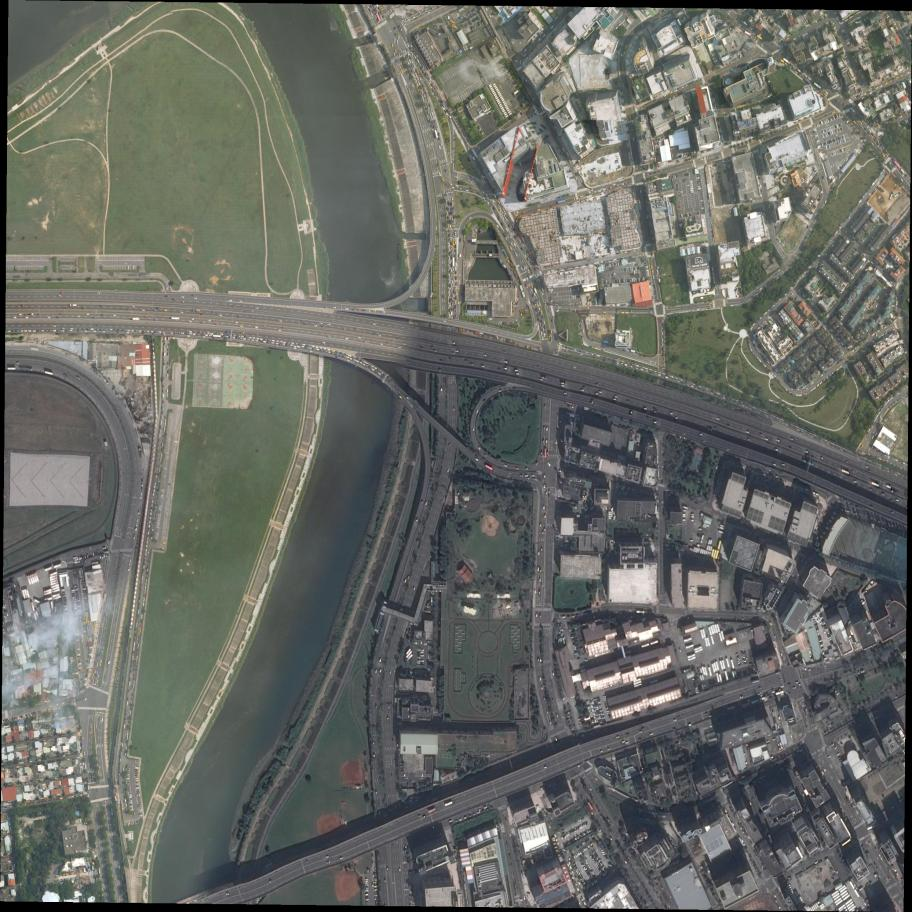large-vehicle: (407, 654, 414, 662), (34, 573, 40, 582), (34, 599, 43, 605), (841, 469, 850, 475), (29, 575, 34, 585), (31, 574, 36, 584), (713, 662, 718, 672), (406, 651, 413, 658), (814, 82, 821, 89), (428, 808, 436, 814), (53, 595, 61, 601), (783, 58, 791, 64), (485, 465, 493, 471), (52, 593, 61, 598), (51, 586, 60, 591), (27, 576, 32, 585), (33, 574, 38, 583), (35, 611, 40, 620), (708, 627, 713, 636), (720, 631, 725, 640), (710, 636, 715, 645), (706, 637, 711, 646), (687, 654, 696, 659), (701, 667, 706, 676), (711, 664, 716, 673), (719, 661, 724, 670), (725, 659, 730, 668), (730, 660, 735, 669), (805, 79, 812, 85), (51, 584, 59, 589), (51, 581, 59, 586), (50, 579, 58, 584), (49, 577, 57, 582), (49, 574, 57, 579), (50, 572, 58, 577), (44, 567, 52, 572), (445, 802, 453, 807), (376, 13, 381, 21), (44, 591, 52, 596), (871, 482, 879, 487), (716, 624, 721, 632), (694, 646, 702, 651), (695, 649, 703, 654), (688, 657, 696, 662), (708, 667, 712, 677), (715, 662, 720, 670), (722, 660, 726, 670), (19, 368, 32, 371), (406, 649, 412, 655), (30, 347, 39, 351), (22, 590, 26, 599), (24, 589, 28, 598), (26, 589, 30, 598), (43, 589, 52, 593), (31, 603, 35, 612), (33, 612, 37, 621), (138, 448, 142, 457), (700, 630, 704, 639), (702, 629, 706, 638), (710, 626, 714, 635), (712, 625, 716, 634), (714, 625, 718, 634), (719, 633, 723, 642), (775, 691, 784, 695), (704, 638, 708, 647), (704, 667, 708, 676), (716, 673, 720, 682), (719, 674, 723, 683), (725, 671, 729, 680), (77, 690, 84, 695), (54, 564, 61, 569), (756, 35, 763, 40), (744, 31, 751, 36), (434, 130, 438, 138), (52, 589, 60, 593), (45, 371, 53, 375), (684, 638, 692, 642), (686, 645, 694, 649), (171, 317, 180, 320), (51, 602, 54, 611), (44, 598, 52, 601), (193, 309, 200, 312), (8, 367, 15, 370), (886, 485, 891, 489), (77, 699, 86, 701), (544, 449, 546, 458), (453, 258, 455, 266), (25, 313, 33, 315), (213, 335, 221, 337), (70, 305, 77, 307), (132, 318, 139, 320)
small-vehicle: (474, 457, 479, 462), (404, 578, 408, 583), (625, 741, 630, 745), (561, 382, 566, 386), (547, 462, 551, 467), (475, 409, 479, 414), (503, 233, 507, 237), (784, 62, 788, 66), (398, 395, 402, 399), (513, 242, 516, 247), (509, 246, 512, 251), (674, 417, 679, 420), (716, 417, 721, 420), (825, 145, 828, 150), (407, 575, 410, 580), (861, 444, 864, 449), (446, 468, 449, 473), (606, 748, 611, 751), (539, 676, 542, 681), (379, 658, 382, 663), (482, 354, 487, 357), (401, 70, 404, 74), (414, 55, 417, 59), (407, 52, 410, 56), (393, 52, 396, 56), (421, 95, 424, 99), (416, 82, 419, 86), (418, 81, 421, 85), (121, 807, 124, 811), (35, 693, 38, 697), (436, 96, 439, 100), (468, 217, 472, 220), (505, 228, 508, 232), (515, 214, 519, 217), (537, 208, 541, 211), (497, 200, 500, 204), (438, 172, 441, 176), (472, 157, 476, 160), (440, 142, 443, 146), (515, 252, 518, 256), (482, 197, 486, 200), (486, 201, 490, 204), (500, 222, 503, 226), (507, 260, 510, 264), (215, 322, 219, 325), (93, 623, 97, 626), (93, 621, 97, 624), (76, 648, 80, 651), (556, 310, 560, 313), (816, 384, 820, 387), (819, 382, 823, 385), (820, 374, 823, 378), (831, 372, 835, 375), (773, 463, 777, 466), (782, 463, 786, 466), (790, 438, 794, 441), (765, 438, 769, 441), (746, 431, 750, 434), (884, 411, 887, 415), (886, 408, 889, 412), (844, 56, 848, 59), (893, 184, 897, 187), (794, 71, 798, 74), (890, 47, 893, 51), (845, 39, 849, 42), (795, 394, 799, 397), (871, 436, 874, 440), (535, 462, 539, 465), (413, 586, 416, 590), (515, 467, 519, 470), (504, 464, 508, 467), (670, 412, 674, 415), (643, 407, 647, 410), (616, 736, 620, 739), (639, 730, 643, 733), (673, 719, 677, 722), (649, 733, 653, 736), (688, 724, 692, 727), (541, 686, 544, 690), (76, 377, 80, 380), (599, 391, 603, 394), (452, 342, 456, 345), (478, 446, 481, 450), (580, 389, 584, 392), (372, 323, 376, 326), (225, 893, 229, 896), (344, 337, 348, 340), (309, 350, 313, 353), (536, 272, 539, 276), (442, 320, 446, 323), (550, 329, 553, 333), (504, 367, 508, 370), (539, 378, 543, 381), (514, 319, 518, 322), (535, 308, 538, 312), (895, 76, 899, 79), (884, 82, 888, 85), (875, 87, 879, 90), (823, 93, 827, 96), (832, 116, 835, 120), (826, 118, 829, 122), (825, 119, 828, 123), (831, 112, 835, 115), (871, 142, 874, 146), (880, 147, 883, 151), (882, 154, 885, 158), (807, 77, 811, 80), (877, 123, 880, 127), (859, 122, 863, 125), (326, 856, 330, 859), (326, 861, 330, 864), (406, 396, 409, 400), (374, 367, 378, 370), (378, 372, 382, 375), (371, 368, 375, 371), (439, 145, 441, 150), (612, 262, 614, 267), (543, 505, 545, 510), (555, 440, 557, 445), (544, 514, 546, 519), (541, 547, 543, 552), (540, 657, 542, 662), (538, 567, 540, 572), (544, 405, 546, 410), (440, 387, 442, 392), (541, 377, 546, 379), (829, 100, 831, 105), (411, 61, 414, 64), (411, 52, 414, 55), (404, 51, 407, 54), (407, 44, 410, 47), (403, 23, 406, 26), (407, 18, 410, 21), (417, 73, 420, 76), (22, 715, 25, 718), (47, 709, 50, 712), (136, 787, 139, 790), (530, 284, 533, 287), (510, 242, 513, 245), (496, 225, 499, 228), (492, 199, 495, 202), (442, 179, 445, 182), (426, 111, 429, 114), (498, 215, 501, 218), (509, 235, 512, 238), (527, 270, 530, 273), (93, 630, 96, 633), (93, 628, 96, 631), (94, 625, 97, 628), (84, 678, 87, 681), (613, 183, 616, 186), (811, 382, 814, 385), (813, 387, 816, 390), (547, 198, 550, 201), (839, 366, 842, 369), (845, 159, 848, 162), (825, 129, 828, 132), (709, 302, 712, 305), (781, 60, 784, 63), (760, 44, 763, 47), (731, 42, 734, 45), (714, 60, 717, 63), (846, 40, 849, 43), (847, 42, 850, 45), (17, 362, 20, 365), (805, 450, 808, 453), (564, 392, 567, 395), (828, 128, 831, 131), (320, 322, 323, 325), (552, 329, 555, 332), (526, 278, 529, 281), (498, 321, 501, 324), (500, 321, 503, 324), (537, 318, 540, 321), (594, 347, 597, 350), (836, 125, 839, 128), (853, 121, 856, 124), (860, 139, 863, 142), (886, 154, 889, 157), (870, 135, 873, 138), (804, 74, 807, 77), (866, 126, 869, 129), (340, 857, 343, 860), (356, 360, 359, 363), (653, 421, 657, 423), (407, 61, 409, 65), (398, 35, 400, 39), (413, 68, 415, 72), (431, 116, 433, 120), (430, 112, 432, 116), (424, 94, 426, 98), (415, 73, 417, 77), (426, 12, 430, 14), (17, 716, 19, 720), (27, 713, 29, 717), (44, 709, 46, 713), (49, 708, 51, 712), (125, 803, 127, 807), (127, 822, 129, 826), (130, 821, 132, 825), (130, 809, 134, 811), (136, 794, 140, 796), (443, 107, 445, 111), (450, 232, 452, 236), (429, 103, 431, 107), (528, 276, 530, 280), (523, 266, 525, 270), (455, 263, 457, 267), (455, 286, 457, 290), (453, 283, 455, 287), (453, 278, 455, 282), (453, 272, 455, 276), (437, 128, 439, 132), (434, 120, 436, 124), (445, 198, 447, 202), (522, 243, 524, 247), (129, 682, 131, 686), (192, 333, 196, 335), (207, 320, 211, 322), (201, 322, 205, 324), (180, 332, 184, 334), (162, 332, 166, 334), (109, 329, 113, 331), (92, 317, 96, 319), (60, 292, 64, 294), (97, 292, 101, 294), (132, 266, 134, 270), (163, 310, 167, 312), (101, 331, 105, 333), (83, 330, 87, 332), (52, 325, 56, 327), (139, 629, 141, 633), (82, 622, 86, 624), (133, 647, 135, 651), (136, 656, 138, 660), (85, 612, 87, 616), (182, 301, 186, 303), (162, 542, 166, 544), (160, 458, 162, 462), (160, 421, 162, 425), (162, 394, 164, 398), (167, 374, 169, 378), (167, 352, 169, 356), (690, 385, 694, 387), (615, 262, 617, 266), (614, 272, 616, 276), (632, 267, 634, 271), (776, 440, 780, 442), (673, 175, 675, 179), (690, 188, 694, 190), (827, 132, 829, 136), (825, 133, 827, 137), (838, 141, 840, 145), (843, 135, 845, 139), (827, 128, 829, 132), (635, 278, 637, 282), (652, 275, 654, 279), (652, 270, 654, 274), (651, 265, 653, 269), (785, 38, 789, 40), (540, 452, 542, 456), (544, 527, 546, 531), (539, 523, 541, 527), (544, 484, 546, 488), (525, 475, 529, 477), (519, 475, 523, 477), (416, 518, 418, 522), (542, 531, 544, 535), (388, 705, 390, 709), (536, 613, 538, 617), (539, 578, 541, 582), (538, 551, 540, 555), (153, 489, 155, 493), (546, 440, 548, 444), (546, 427, 548, 431), (775, 449, 779, 451), (154, 485, 156, 489), (136, 623, 138, 627), (473, 427, 475, 431), (497, 390, 501, 392), (561, 385, 565, 387), (375, 704, 377, 708), (390, 670, 392, 674), (375, 669, 377, 673), (380, 668, 382, 672), (399, 868, 401, 872), (830, 127, 832, 131), (397, 347, 401, 349), (234, 322, 238, 324), (379, 344, 383, 346), (314, 325, 318, 327), (357, 337, 361, 339), (345, 308, 349, 310), (367, 310, 371, 312), (248, 337, 252, 339), (308, 347, 312, 349), (297, 346, 301, 348), (275, 340, 279, 342), (263, 341, 267, 343), (455, 350, 459, 352), (481, 365, 485, 367), (542, 288, 544, 292), (534, 292, 536, 296), (451, 303, 453, 307), (455, 276, 457, 280), (504, 361, 508, 363), (544, 333, 546, 337), (515, 373, 519, 375), (541, 323, 543, 327), (542, 315, 544, 319), (530, 287, 532, 291), (541, 310, 543, 314), (543, 320, 545, 324), (541, 331, 543, 335), (833, 126, 835, 130), (879, 85, 883, 87), (579, 354, 583, 356), (319, 347, 323, 349), (620, 360, 624, 362), (830, 117, 832, 121), (818, 122, 820, 126), (816, 123, 818, 127), (327, 351, 331, 353), (331, 350, 335, 352), (403, 52, 405, 55), (409, 60, 411, 63), (419, 63, 421, 66), (412, 16, 415, 18), (395, 50, 397, 53), (394, 39, 396, 42), (403, 21, 406, 23), (413, 65, 415, 68), (412, 84, 414, 87), (430, 85, 432, 88), (433, 116, 435, 119), (432, 112, 434, 115), (428, 107, 430, 110), (429, 77, 431, 80), (429, 80, 431, 83), (428, 82, 430, 85), (426, 78, 428, 81), (427, 98, 429, 101), (421, 90, 423, 93), (415, 79, 417, 82), (413, 74, 415, 77), (417, 77, 419, 80), (419, 77, 421, 80), (420, 25, 423, 27), (24, 715, 26, 718), (80, 729, 82, 732), (125, 746, 127, 749), (10, 718, 12, 721), (41, 710, 43, 713), (135, 767, 138, 769), (121, 804, 123, 807), (129, 822, 131, 825), (132, 821, 134, 824), (139, 809, 142, 811), (129, 800, 132, 802), (135, 780, 138, 782), (135, 778, 138, 780), (430, 108, 432, 111), (451, 220, 453, 223), (450, 237, 452, 240), (451, 247, 453, 250), (453, 252, 455, 255), (450, 208, 452, 211), (494, 195, 496, 198), (455, 185, 458, 187), (449, 183, 452, 185), (455, 176, 458, 178), (468, 147, 470, 150), (446, 203, 448, 206), (449, 197, 451, 200), (447, 197, 449, 200), (478, 193, 481, 195), (191, 318, 194, 320), (189, 320, 192, 322), (207, 332, 210, 334), (189, 331, 192, 333), (187, 335, 190, 337), (170, 332, 173, 334), (146, 330, 149, 332), (131, 330, 134, 332), (127, 330, 130, 332), (113, 315, 116, 317), (14, 317, 17, 319), (58, 295, 61, 297), (100, 305, 103, 307), (91, 328, 94, 330), (69, 330, 72, 332), (70, 328, 73, 330), (61, 330, 64, 332), (53, 330, 56, 332), (41, 330, 44, 332), (37, 330, 40, 332), (33, 330, 36, 332), (28, 330, 31, 332), (24, 330, 27, 332), (17, 330, 20, 332), (58, 317, 61, 319), (92, 675, 94, 678), (91, 626, 93, 629), (141, 615, 143, 618), (143, 599, 145, 602), (145, 583, 147, 586), (132, 656, 134, 659), (84, 683, 87, 685), (94, 670, 96, 673), (87, 667, 90, 669), (78, 667, 81, 669), (100, 660, 102, 663), (75, 673, 78, 675), (72, 592, 75, 594), (181, 296, 184, 298), (194, 297, 197, 299), (166, 345, 168, 348), (174, 441, 177, 443), (159, 434, 161, 437), (163, 366, 165, 369), (167, 366, 169, 369), (167, 362, 169, 365), (692, 383, 695, 385), (597, 355, 600, 357), (609, 274, 611, 277), (625, 312, 628, 314), (621, 312, 624, 314), (630, 268, 632, 271), (698, 188, 701, 190), (697, 186, 700, 188), (690, 182, 693, 184), (691, 191, 694, 193), (690, 186, 693, 188), (690, 184, 693, 186), (662, 343, 664, 346), (453, 295, 455, 298), (876, 415, 878, 418), (836, 369, 839, 371), (834, 152, 836, 155), (662, 339, 664, 342), (832, 152, 834, 155), (822, 135, 824, 138), (844, 139, 846, 142), (730, 43, 732, 46), (842, 30, 845, 32), (544, 475, 546, 478), (532, 475, 535, 477), (425, 502, 427, 505), (613, 398, 616, 400), (615, 396, 618, 398), (622, 741, 625, 743), (543, 427, 545, 430), (161, 416, 163, 419), (327, 336, 330, 338), (263, 325, 266, 327), (241, 332, 244, 334), (153, 493, 155, 496), (471, 364, 474, 366), (384, 879, 386, 882), (832, 127, 834, 130), (232, 337, 235, 339), (255, 327, 258, 329), (279, 320, 282, 322), (327, 324, 330, 326), (333, 307, 336, 309), (357, 309, 360, 311), (373, 310, 376, 312), (382, 311, 385, 313), (243, 338, 246, 340), (301, 346, 304, 348), (291, 343, 294, 345), (283, 342, 286, 344), (280, 341, 283, 343), (275, 343, 278, 345), (271, 342, 274, 344), (272, 340, 275, 342), (256, 338, 259, 340), (253, 337, 256, 339), (449, 314, 451, 317), (455, 282, 457, 285), (535, 275, 537, 278), (537, 314, 539, 317), (537, 304, 539, 307), (539, 303, 541, 306), (539, 323, 541, 326), (311, 346, 314, 348), (629, 366, 632, 368), (861, 91, 863, 94), (662, 373, 665, 375), (658, 374, 661, 376), (645, 368, 648, 370), (649, 369, 652, 371), (640, 369, 643, 371), (636, 365, 639, 367), (573, 349, 576, 351), (900, 75, 903, 77), (860, 95, 863, 97), (360, 362, 363, 364), (348, 355, 351, 357), (350, 358, 353, 360), (347, 357, 350, 359), (347, 360, 350, 362), (327, 349, 330, 351), (365, 890, 368, 892), (163, 377, 164, 382), (417, 60, 419, 62), (410, 45, 412, 47), (100, 718, 101, 722), (102, 718, 103, 722), (127, 733, 128, 737), (128, 795, 132, 796), (453, 242, 454, 246), (452, 234, 454, 236), (455, 240, 456, 244), (454, 220, 455, 224), (449, 216, 450, 220), (458, 301, 459, 305), (449, 266, 450, 270), (449, 252, 450, 256), (449, 243, 450, 247), (449, 207, 450, 211), (448, 202, 449, 206), (452, 202, 453, 206), (452, 197, 453, 201), (447, 193, 448, 197), (472, 191, 474, 193), (124, 725, 125, 729), (218, 315, 222, 316), (189, 333, 191, 335), (138, 331, 142, 332), (154, 320, 158, 321), (76, 316, 80, 317), (167, 287, 168, 291), (170, 287, 171, 291), (128, 266, 129, 270), (50, 330, 52, 332), (46, 330, 48, 332), (21, 330, 23, 332), (87, 616, 88, 620), (134, 643, 135, 647), (97, 663, 98, 667), (102, 651, 103, 655), (90, 647, 92, 649), (61, 590, 65, 591), (102, 623, 103, 627), (162, 548, 164, 550), (165, 419, 166, 423), (164, 347, 165, 351), (575, 295, 576, 299), (590, 302, 591, 306), (572, 295, 573, 299), (689, 181, 693, 182), (798, 395, 802, 396), (546, 491, 547, 495), (539, 590, 540, 594), (543, 439, 544, 443), (225, 336, 229, 337), (164, 352, 165, 356), (387, 866, 388, 870), (455, 305, 456, 309), (451, 298, 452, 302), (543, 328, 544, 332), (869, 130, 871, 132), (392, 44, 393, 47), (397, 40, 398, 43), (122, 744, 123, 747), (125, 753, 126, 756), (43, 710, 44, 713), (127, 737, 128, 740), (128, 728, 129, 731), (84, 752, 85, 755), (135, 771, 138, 772), (135, 775, 138, 776), (121, 800, 122, 803), (125, 799, 126, 802), (129, 806, 132, 807), (129, 802, 132, 803), (129, 797, 132, 798), (135, 784, 138, 785), (448, 224, 449, 227), (453, 238, 454, 241), (455, 237, 456, 240), (455, 232, 456, 235), (448, 220, 449, 223), (449, 220, 450, 223), (452, 224, 453, 227), (452, 217, 453, 220), (447, 212, 448, 215), (453, 248, 454, 251), (451, 274, 452, 277), (449, 276, 450, 279), (449, 270, 450, 273), (455, 301, 456, 304), (456, 292, 457, 295), (453, 268, 454, 271), (455, 267, 456, 270), (451, 269, 452, 272), (449, 261, 450, 264), (449, 257, 450, 260), (449, 248, 450, 251), (453, 207, 454, 210), (465, 190, 468, 191), (451, 193, 452, 196), (449, 193, 450, 196), (450, 203, 451, 206), (127, 702, 128, 705), (209, 335, 212, 336), (205, 335, 208, 336), (197, 334, 200, 335), (150, 331, 153, 332), (180, 312, 183, 313), (144, 316, 147, 317), (132, 306, 135, 307), (82, 308, 85, 309), (86, 314, 89, 315), (47, 317, 50, 318), (25, 317, 28, 318), (142, 310, 145, 311), (125, 332, 128, 333), (92, 331, 95, 332), (7, 331, 10, 332), (143, 603, 144, 606), (145, 590, 146, 593), (145, 587, 146, 590), (87, 612, 88, 615), (88, 620, 89, 623), (86, 620, 87, 623), (93, 679, 94, 682), (97, 680, 98, 683), (87, 665, 90, 666), (78, 664, 81, 665), (77, 655, 80, 656), (82, 639, 83, 642), (74, 609, 77, 610), (210, 299, 213, 300), (160, 465, 161, 468), (161, 454, 162, 457), (164, 428, 165, 431), (165, 424, 166, 427), (163, 370, 164, 373), (168, 348, 169, 351), (168, 344, 169, 347), (452, 280, 453, 283), (583, 330, 584, 333), (573, 295, 574, 298), (624, 252, 627, 253), (570, 288, 571, 291), (602, 312, 605, 313), (632, 279, 633, 282), (635, 267, 636, 270), (675, 175, 676, 178), (691, 190, 694, 191), (634, 271, 635, 274), (662, 332, 663, 335), (639, 278, 640, 281), (422, 501, 423, 504), (155, 482, 156, 485), (159, 469, 160, 472), (123, 768, 124, 771), (130, 674, 131, 677), (278, 330, 281, 331), (229, 300, 232, 301), (239, 301, 242, 302), (255, 308, 258, 309), (315, 347, 318, 348), (251, 340, 254, 341), (302, 345, 305, 346), (293, 346, 296, 347), (290, 345, 293, 346), (282, 344, 285, 345), (255, 340, 258, 341), (260, 339, 263, 340), (449, 309, 450, 312), (449, 304, 450, 307), (451, 312, 452, 315), (456, 314, 457, 317), (456, 310, 457, 313), (449, 293, 450, 296), (449, 289, 450, 292), (449, 284, 450, 287), (449, 280, 450, 283), (515, 370, 518, 371), (316, 349, 319, 350), (365, 885, 368, 886), (365, 881, 368, 882), (365, 879, 368, 880), (353, 360, 356, 361), (322, 342, 325, 343), (365, 883, 368, 884), (134, 821, 135, 823), (450, 225, 451, 227), (454, 225, 455, 227), (448, 235, 449, 237), (452, 187, 454, 188), (19, 314, 21, 315), (62, 328, 64, 329), (138, 611, 139, 613), (144, 595, 145, 597), (146, 580, 147, 582), (86, 617, 87, 619), (89, 654, 91, 655), (167, 394, 168, 396), (167, 390, 168, 392), (452, 290, 453, 292), (240, 326, 242, 327), (241, 336, 243, 337), (294, 348, 296, 349), (451, 295, 452, 297), (452, 285, 452, 287)
